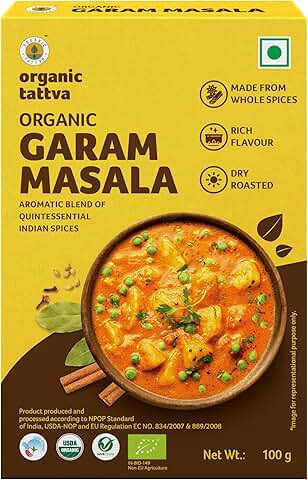Garamasala: (1, 7, 308, 480)
